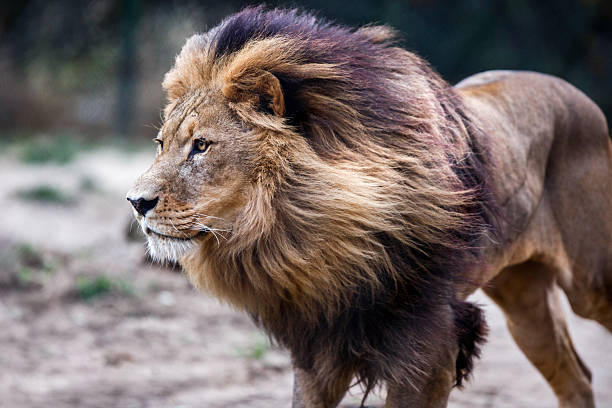lion: (82, 4, 530, 408)
